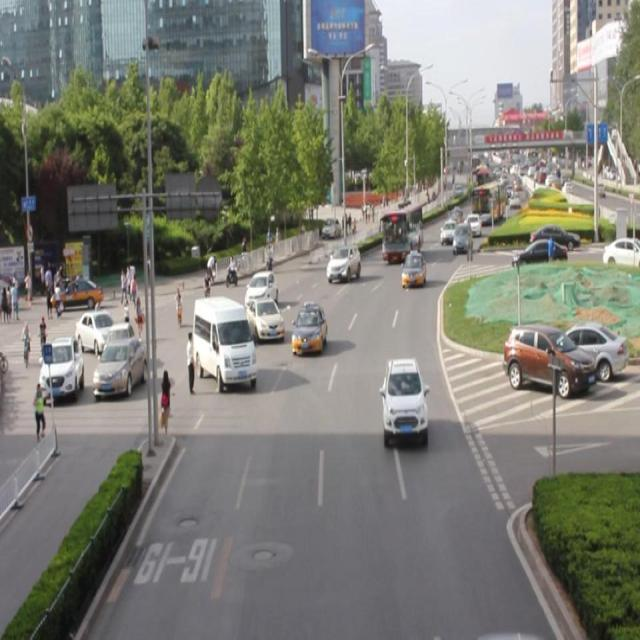car: (381, 356, 426, 439), (246, 295, 284, 338), (291, 303, 325, 350), (244, 268, 278, 309), (326, 243, 360, 280), (401, 249, 424, 284)
truck: (194, 296, 257, 383)
van: (381, 201, 422, 256)
